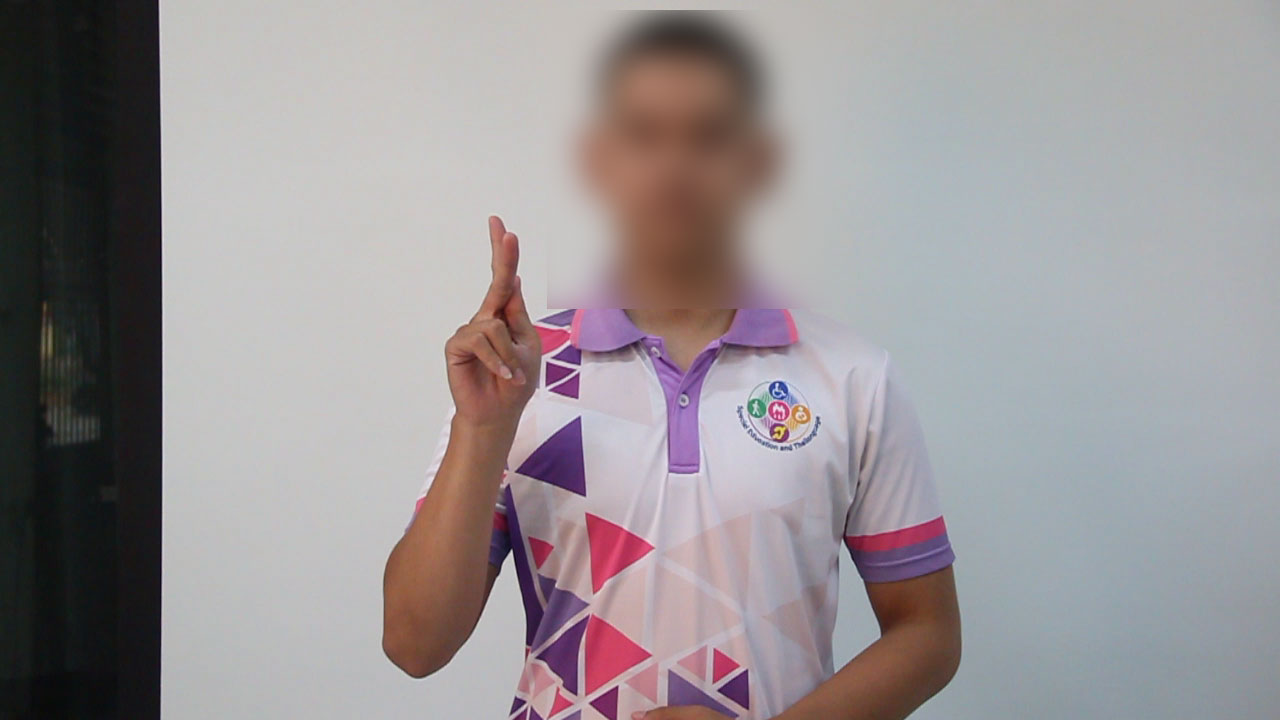ko: (412, 204, 566, 430)
